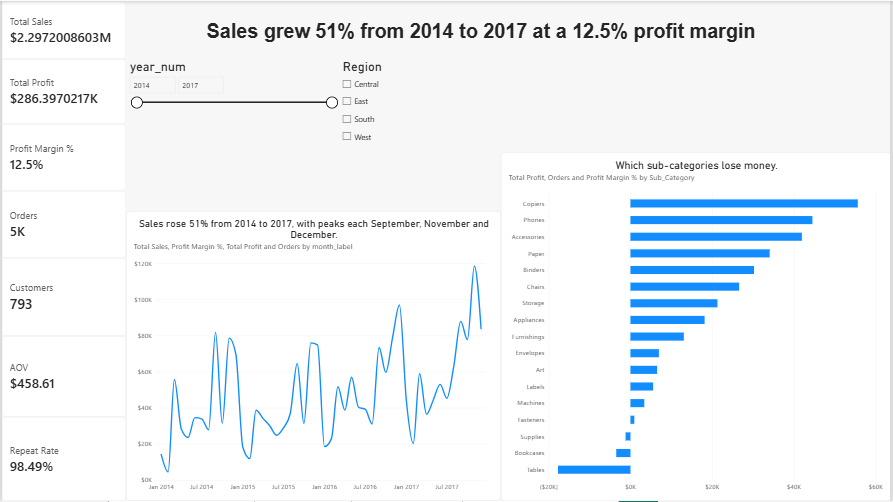

Layout of this report page (visuals, bound fields, positions):
{"tool":"powerbi","page":{"name":"Page 1","canvas":[1920,1080],"ordinal":0},"visuals":[{"type":"textbox","box":[311,21.6,1447.2,103.7],"z":0},{"type":"cardVisual","fields":{"Data":["fact_sales.Total Sales"]},"box":[0,0,267.8,125.3],"z":1000},{"type":"cardVisual","fields":{"Data":["fact_sales.Total Profit"]},"box":[0,125.3,267.8,140.4],"z":2000},{"type":"cardVisual","fields":{"Data":["fact_sales.Profit Margin %"]},"box":[0,265.7,267.8,144.7],"z":3000},{"type":"cardVisual","fields":{"Data":["fact_sales.Orders"]},"box":[0,410.4,267.8,144.7],"z":4000},{"type":"cardVisual","fields":{"Data":["fact_sales.Customers"]},"box":[0,555.1,267.8,168.5],"z":5000},{"type":"cardVisual","fields":{"Data":["fact_sales.AOV Display"]},"box":[0,723.6,267.8,175],"z":6000},{"type":"cardVisual","fields":{"Data":["fact_sales.Repeat Rate"]},"box":[0,898.6,267.8,181.4],"z":7000},{"type":"lineChart","title":"Sales rose 51% from 2014 to 2017, with peaks each September, November and December.","fields":{"Category":["dim_date.month_label"],"Y":["fact_sales.Total Sales"]},"box":[267.8,453.6,810,626.4],"z":8000},{"type":"clusteredBarChart","title":"Which sub-categories lose money.","fields":{"Category":["dim_product.Sub_Category"],"Y":["fact_sales.Total Profit"]},"box":[1077.8,326.2,842.4,753.8],"z":9000},{"type":"slicer","fields":{"Values":["dim_date.year_num"]},"box":[267.1,126,461.1,327.6],"z":10000},{"type":"slicer","fields":{"Values":["dim_geography.Region"]},"box":[728.2,126,443.5,322.5],"z":11000}]}

Visuals, with their boxes in screenshot pixels (x1, y1, x2, y2), scaled from the page's 1920x1080 canvas onto the 893x502 screenshot:
textbox: 145/10/818/58
cardVisual - fact_sales.Total Sales: 0/0/125/58
cardVisual - fact_sales.Total Profit: 0/58/125/124
cardVisual - fact_sales.Profit Margin %: 0/124/125/191
cardVisual - fact_sales.Orders: 0/191/125/258
cardVisual - fact_sales.Customers: 0/258/125/336
cardVisual - fact_sales.AOV Display: 0/336/125/418
cardVisual - fact_sales.Repeat Rate: 0/418/125/501
"Sales rose 51% from 2014 to 2017, with peaks each September, November and December." lineChart: 125/211/501/501
"Which sub-categories lose money." clusteredBarChart: 501/152/892/501
slicer - dim_date.year_num: 124/59/339/211
slicer - dim_geography.Region: 339/59/545/208
